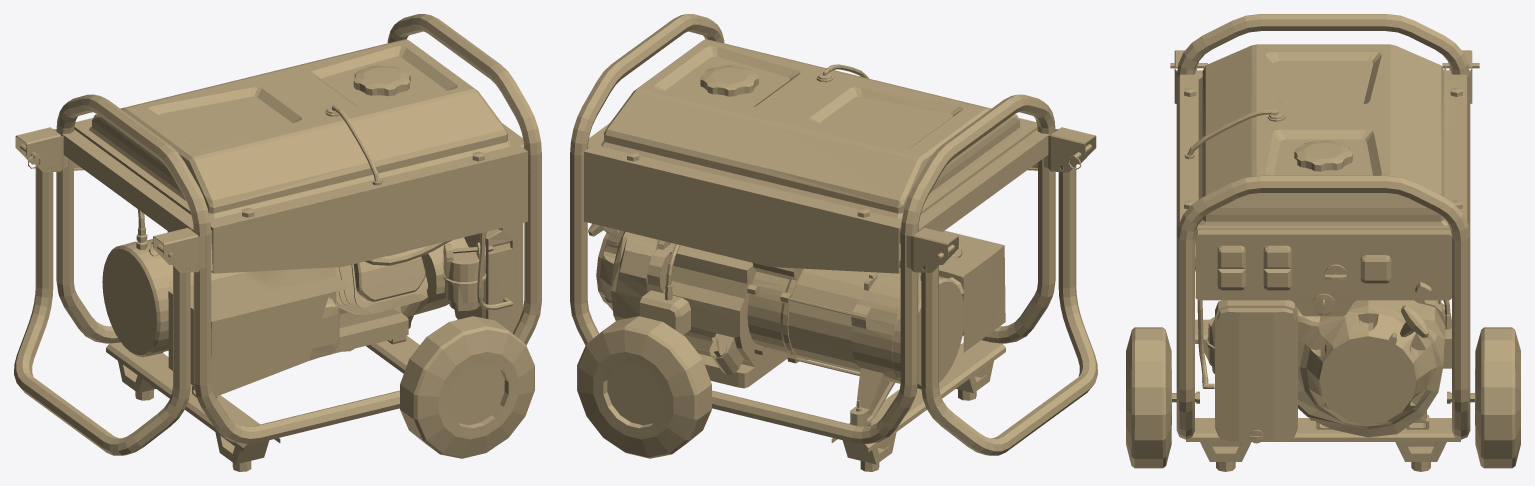
The model's file is 发电机新.FBX.
3 views of the same model, side by side, from view 1: azimuth 30°, elevation 25°; view 2: azimuth 150°, elevation 25°; view 3: azimuth 270°, elevation 25° (orthographic).
Parts seen in each view (by area): view 1: 发电机; view 2: 发电机; view 3: 发电机.
Part boxes in pixels (<box>): 发电机: <box>14,14,541,471</box>; 发电机: <box>570,14,1097,471</box>; 发电机: <box>1126,14,1520,471</box>.
Size of the model in its own units: 55.09 by 41.45 by 45.46.
